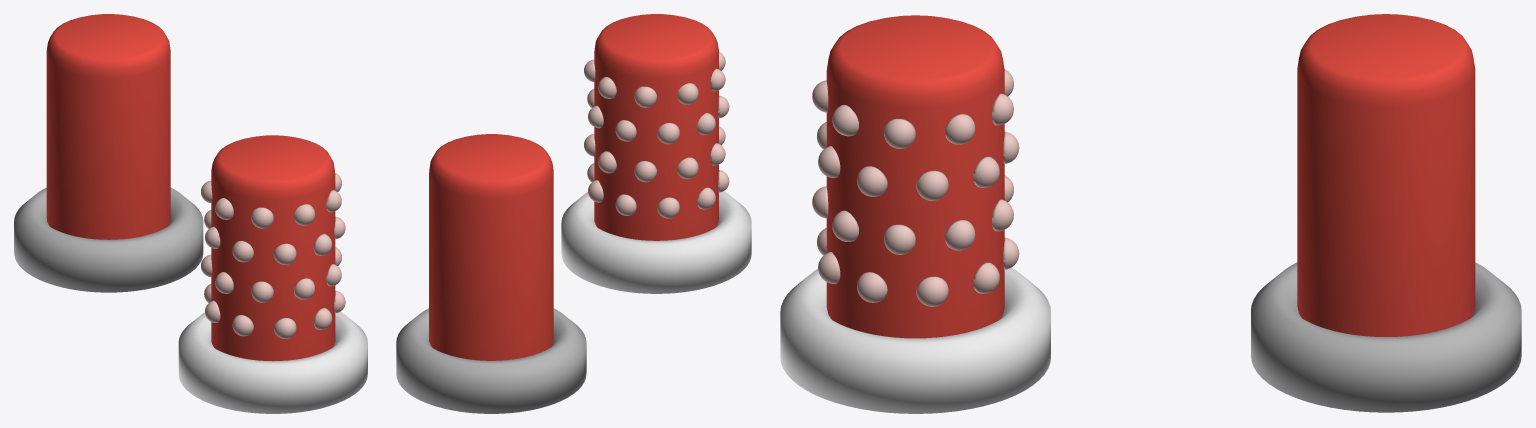
Rendered from barrage two models .fbx.
The picture shows the model from 3 angles, left to right: view 1: azimuth 30°, elevation 25°; view 2: azimuth 150°, elevation 25°; view 3: azimuth 270°, elevation 25°; orthographic projection. The views are drawn at different scales.
Parts seen in each view (by area): view 1: Cylinder.001, Cylinder, Torus, Torus.001, Sphere.001; view 2: Cylinder.001, Cylinder, Torus, Torus.001, Sphere.001; view 3: Cylinder.001, Cylinder, Torus, Torus.001, Sphere.001.
Part boxes in pixels (box(x1,y1,x2,y2)): Cylinder.001: box(46, 14, 170, 239); Cylinder: box(211, 135, 335, 361); Torus: box(14, 187, 203, 292); Torus.001: box(178, 311, 367, 413); Sphere.001: box(201, 173, 345, 338); Cylinder.001: box(429, 134, 553, 360); Cylinder: box(594, 14, 718, 240); Torus: box(396, 308, 586, 413); Torus.001: box(561, 191, 751, 293); Sphere.001: box(584, 52, 729, 218); Cylinder.001: box(1297, 14, 1475, 336); Cylinder: box(826, 15, 1004, 338); Torus: box(1251, 262, 1521, 412); Torus.001: box(780, 267, 1050, 413); Sphere.001: box(812, 69, 1019, 306).
Bounding box in the file's own units: 304 × 385 × 833.
